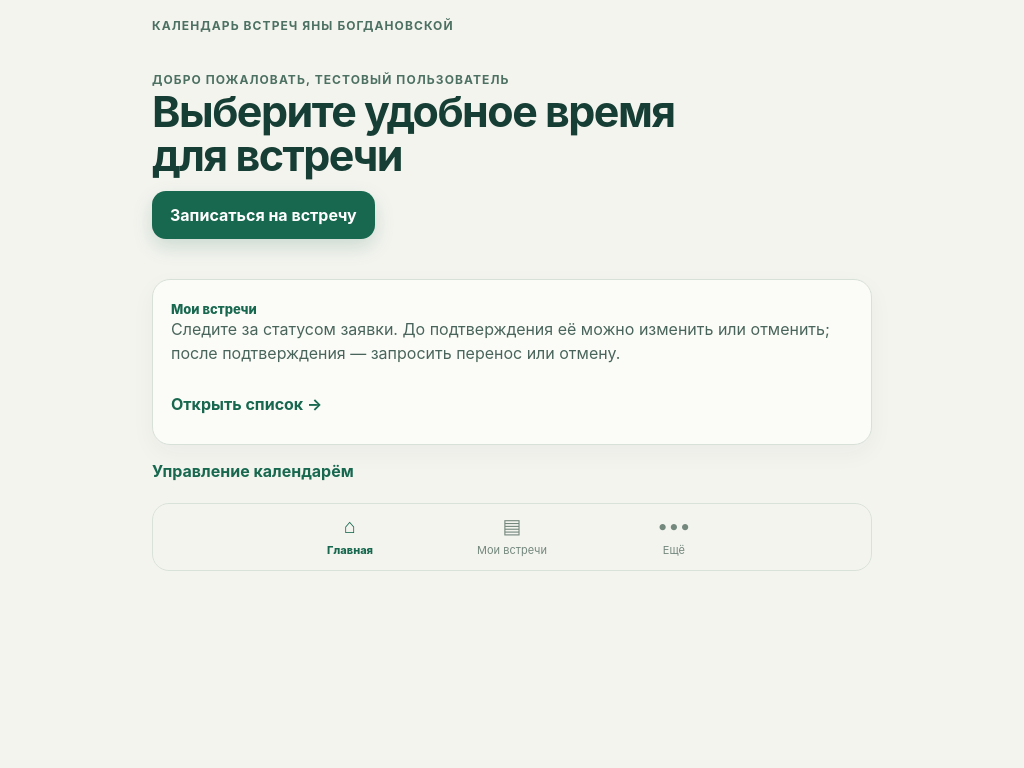
локальный UAT экранов › показывает административный экран только для роли, пришедшей от API
Click the button "Управление календарём": (253,470) x1=152 y1=448 x2=354 y2=492
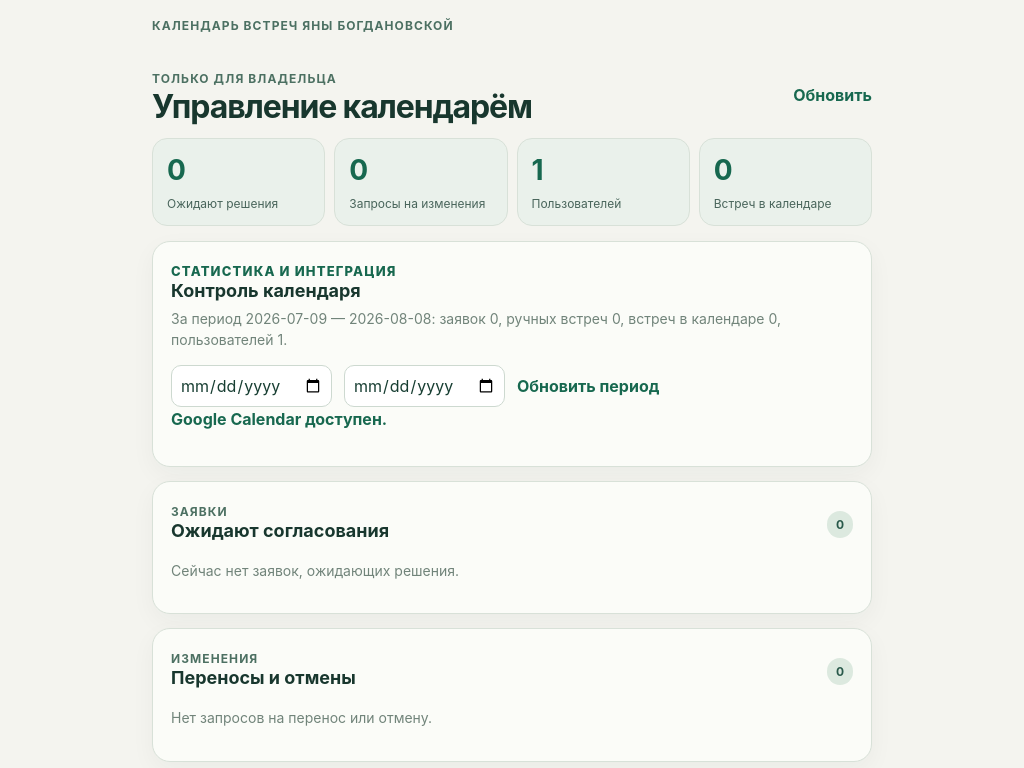
Check: the heading "Управление календарём" is shown, box x1=152 y1=90 x2=532 y2=123
Check: the text "Google Calendar доступен." is shown, box x1=171 y1=409 x2=387 y2=429
